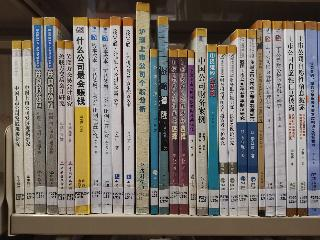book-spine: (291, 20, 310, 217), (85, 17, 103, 214), (73, 17, 90, 215), (303, 20, 320, 217), (193, 28, 209, 216), (43, 16, 58, 215), (32, 17, 47, 215), (109, 17, 124, 214), (272, 19, 287, 216), (135, 3, 149, 214), (283, 20, 297, 218), (99, 19, 113, 214), (236, 29, 250, 215), (157, 16, 170, 215), (122, 17, 135, 215), (206, 45, 221, 215), (262, 22, 275, 217), (21, 39, 35, 214), (62, 39, 75, 215), (247, 29, 259, 217), (55, 38, 67, 215), (12, 40, 24, 214), (147, 48, 159, 215), (168, 49, 180, 216), (178, 50, 190, 216), (255, 20, 265, 217), (219, 43, 229, 216), (228, 45, 238, 215), (187, 50, 197, 216)
